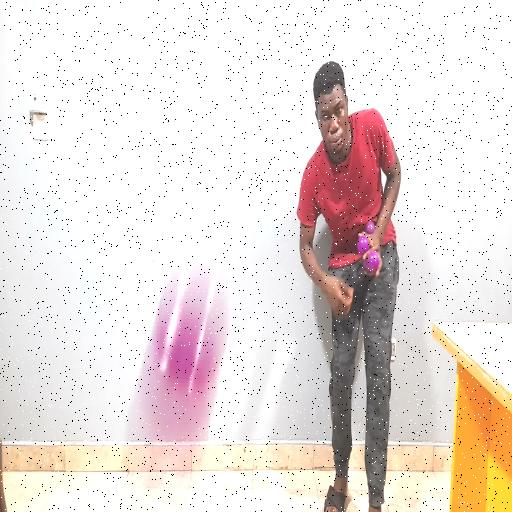plastic-ball: (122, 240, 232, 510)
